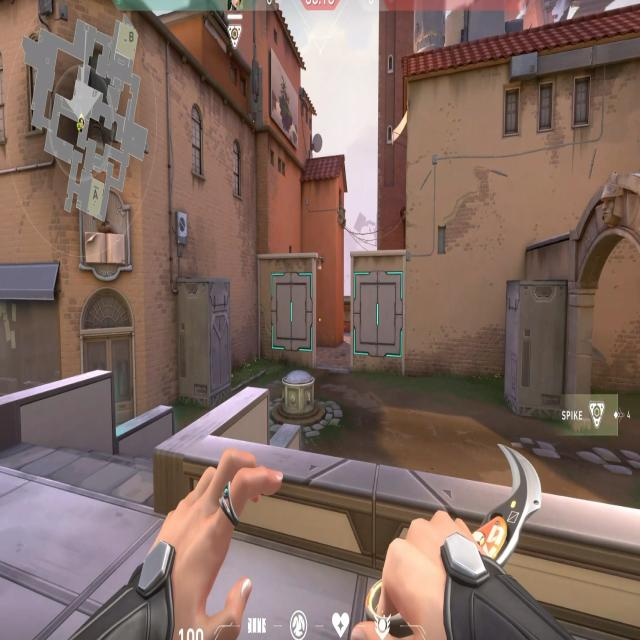Mid_Wall: (257, 252, 318, 368), (350, 249, 406, 374)
